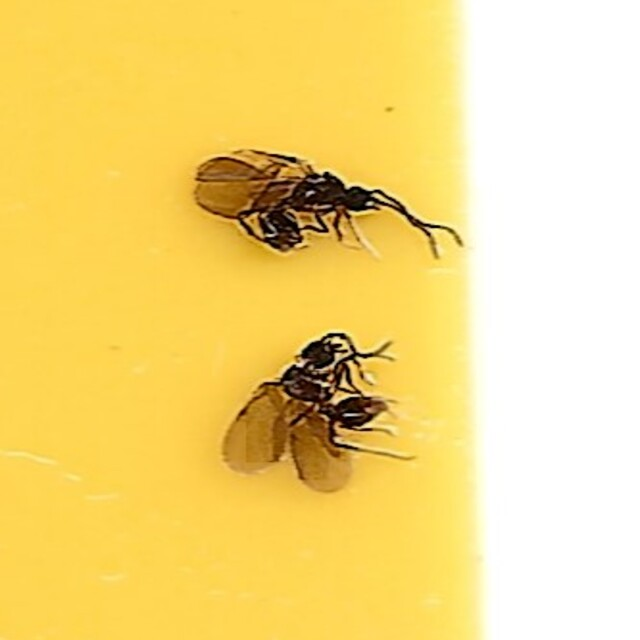Hymenoptera: (221, 332, 413, 492), (192, 148, 448, 261)
